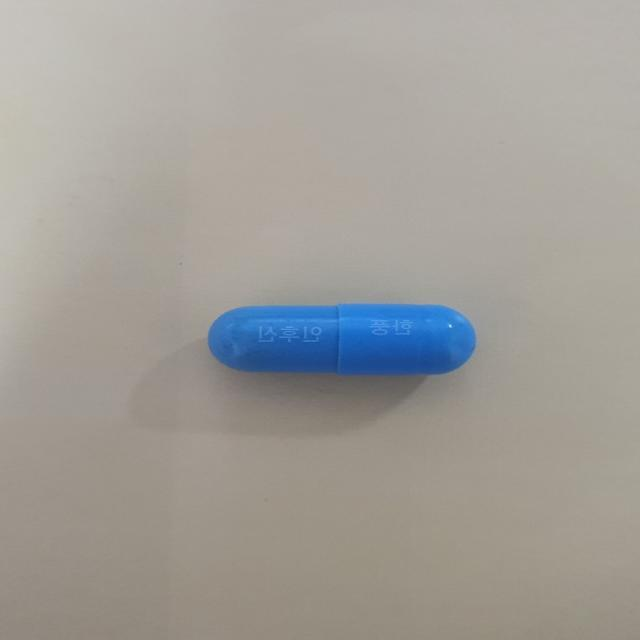pill: (204, 292, 481, 401)
